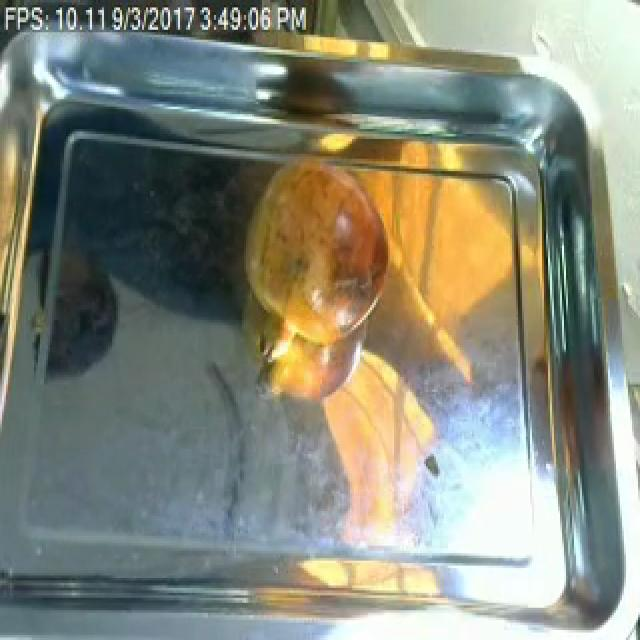fruit: (232, 152, 398, 358)
